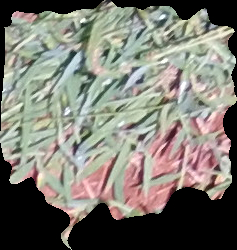grass: (2, 1, 235, 248)
